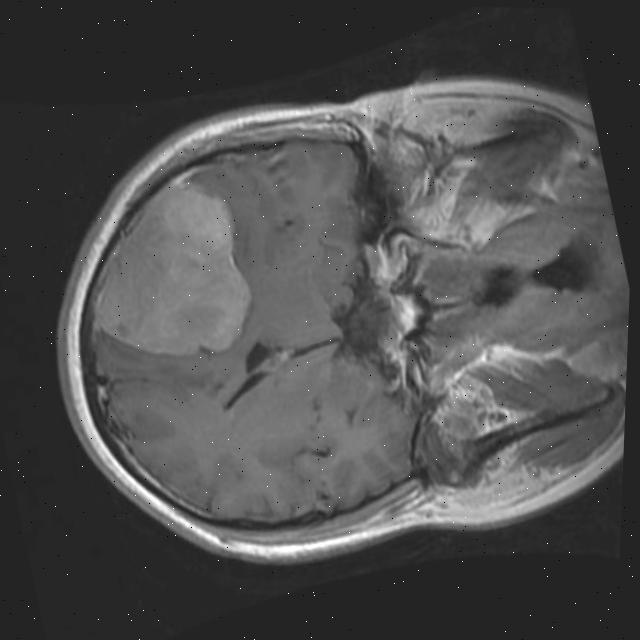Meningioma: (64, 169, 265, 381)
Pituitary: (383, 281, 427, 342)
